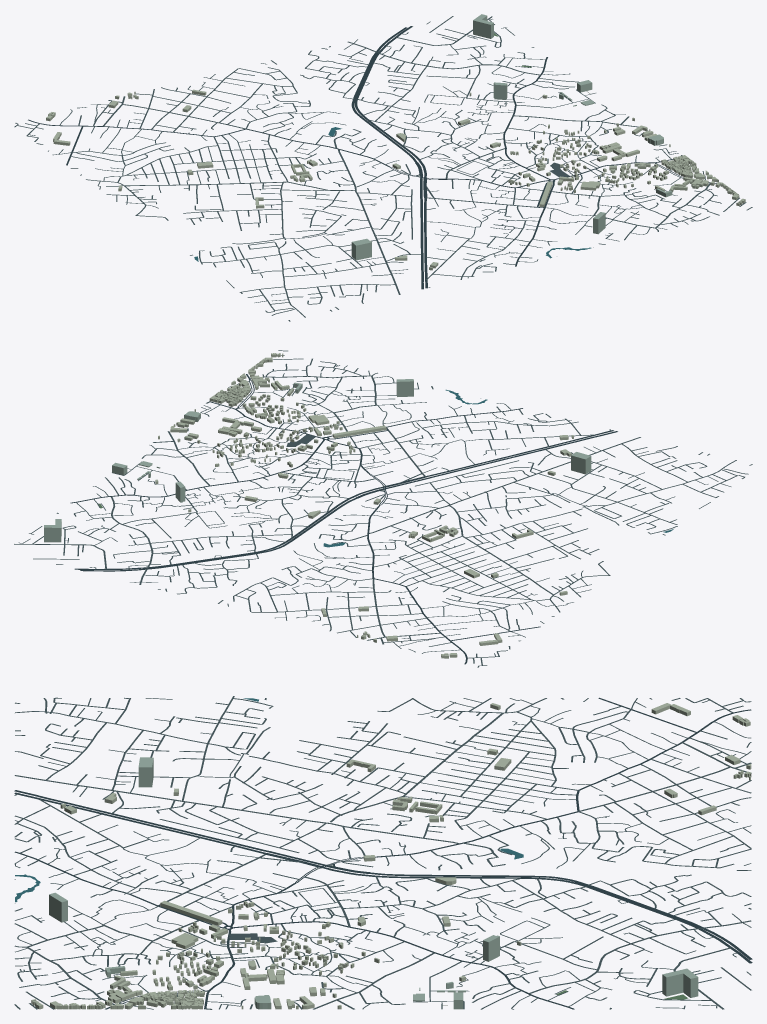
3 renders of one model, top to bottom at view 1: azimuth 30°, elevation 25°; view 2: azimuth 150°, elevation 25°; view 3: azimuth 270°, elevation 25°, orthographic. The views are drawn at different scales.
Visible parts, largest first — view 1: street, building, major, building-tagged; view 2: street, building, major, building-tagged; view 3: street, building, major, building-tagged.
Boxes of the visible parts, x1,y1,x2,y2 form: street: (14, 16, 752, 321); building: (46, 89, 745, 270); major: (28, 26, 716, 289); building-tagged: (351, 14, 672, 260); street: (14, 350, 752, 667); building: (155, 353, 573, 658); major: (70, 374, 617, 664); building-tagged: (44, 379, 591, 542); street: (14, 696, 751, 1009); building: (31, 703, 751, 1009); major: (14, 697, 752, 1009); building-tagged: (49, 757, 698, 1009).
Size of the model in its own units: 2006 by 61 by 2007.
